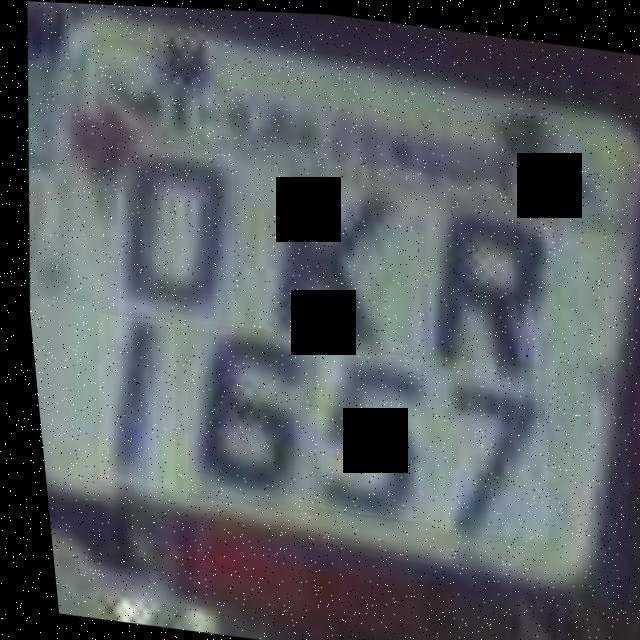1: (77, 312, 180, 489)
5: (295, 341, 437, 520)
6: (164, 318, 327, 514)
7: (409, 351, 553, 538)
O: (98, 140, 243, 333)
R: (399, 184, 557, 386)
